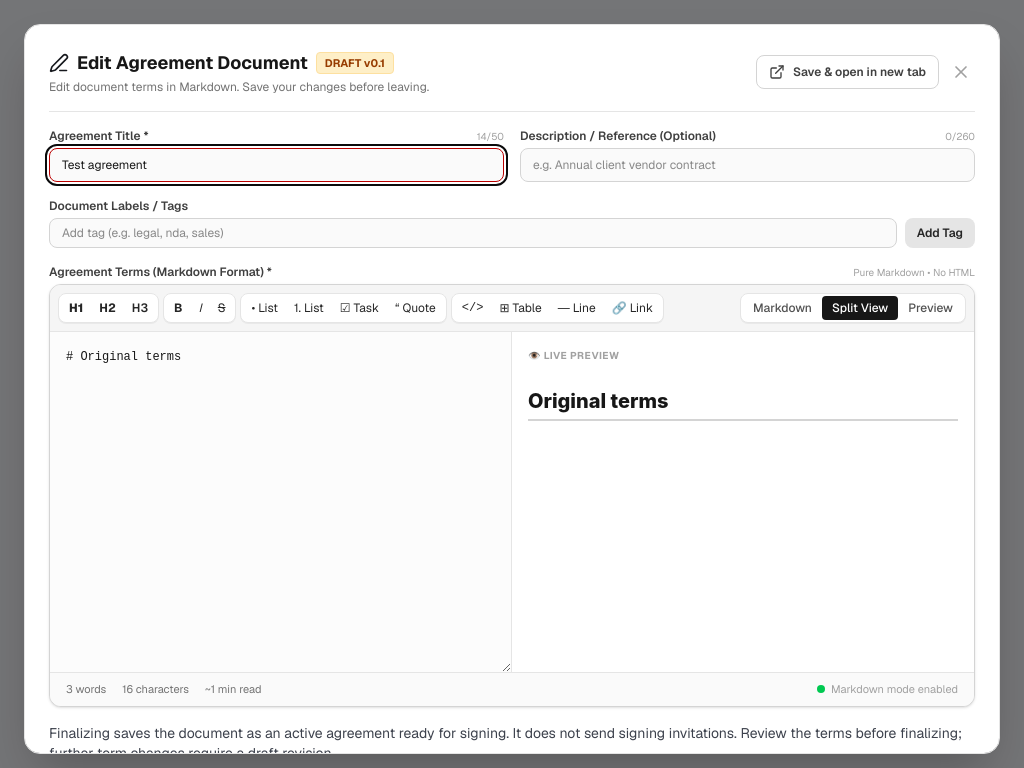
Test: Agreement editor creation and full-page handoff › does not save when the browser blocks the new tab
The image size is (1024, 768).
What coordinates should you click on to do the following:
click the button "Save & open in new tab"
I would click on:
 (847, 72)
Its box is [756,55,939,89].
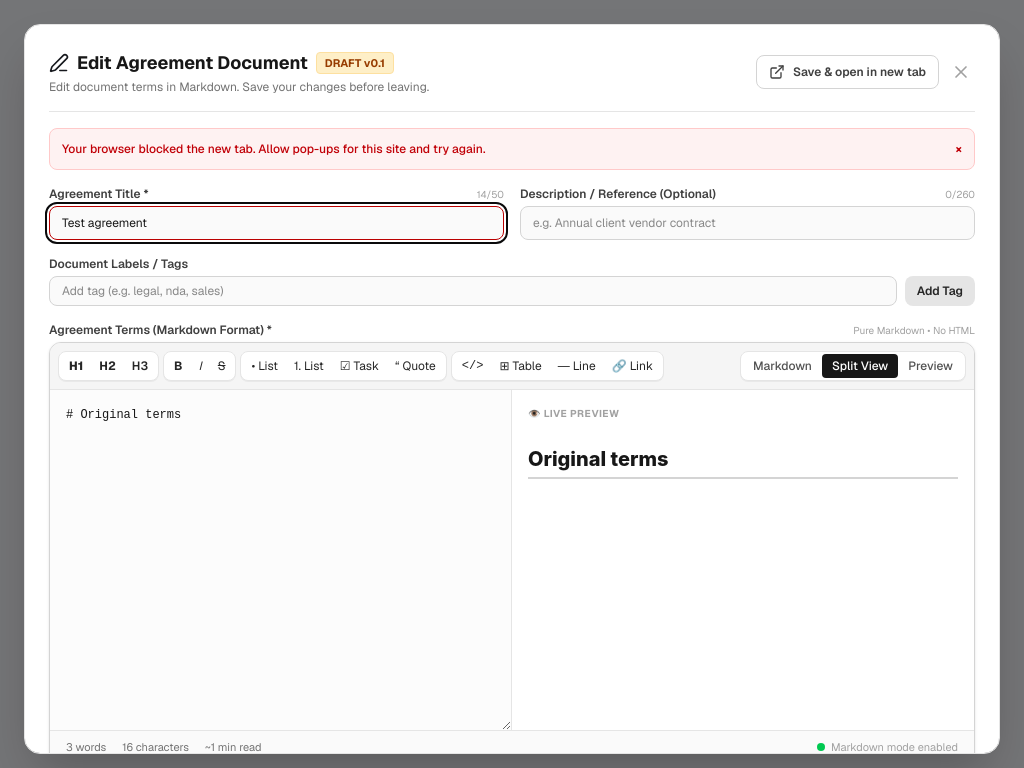
Expected: the message shows "blocked the new tab", [62,141,486,157]
